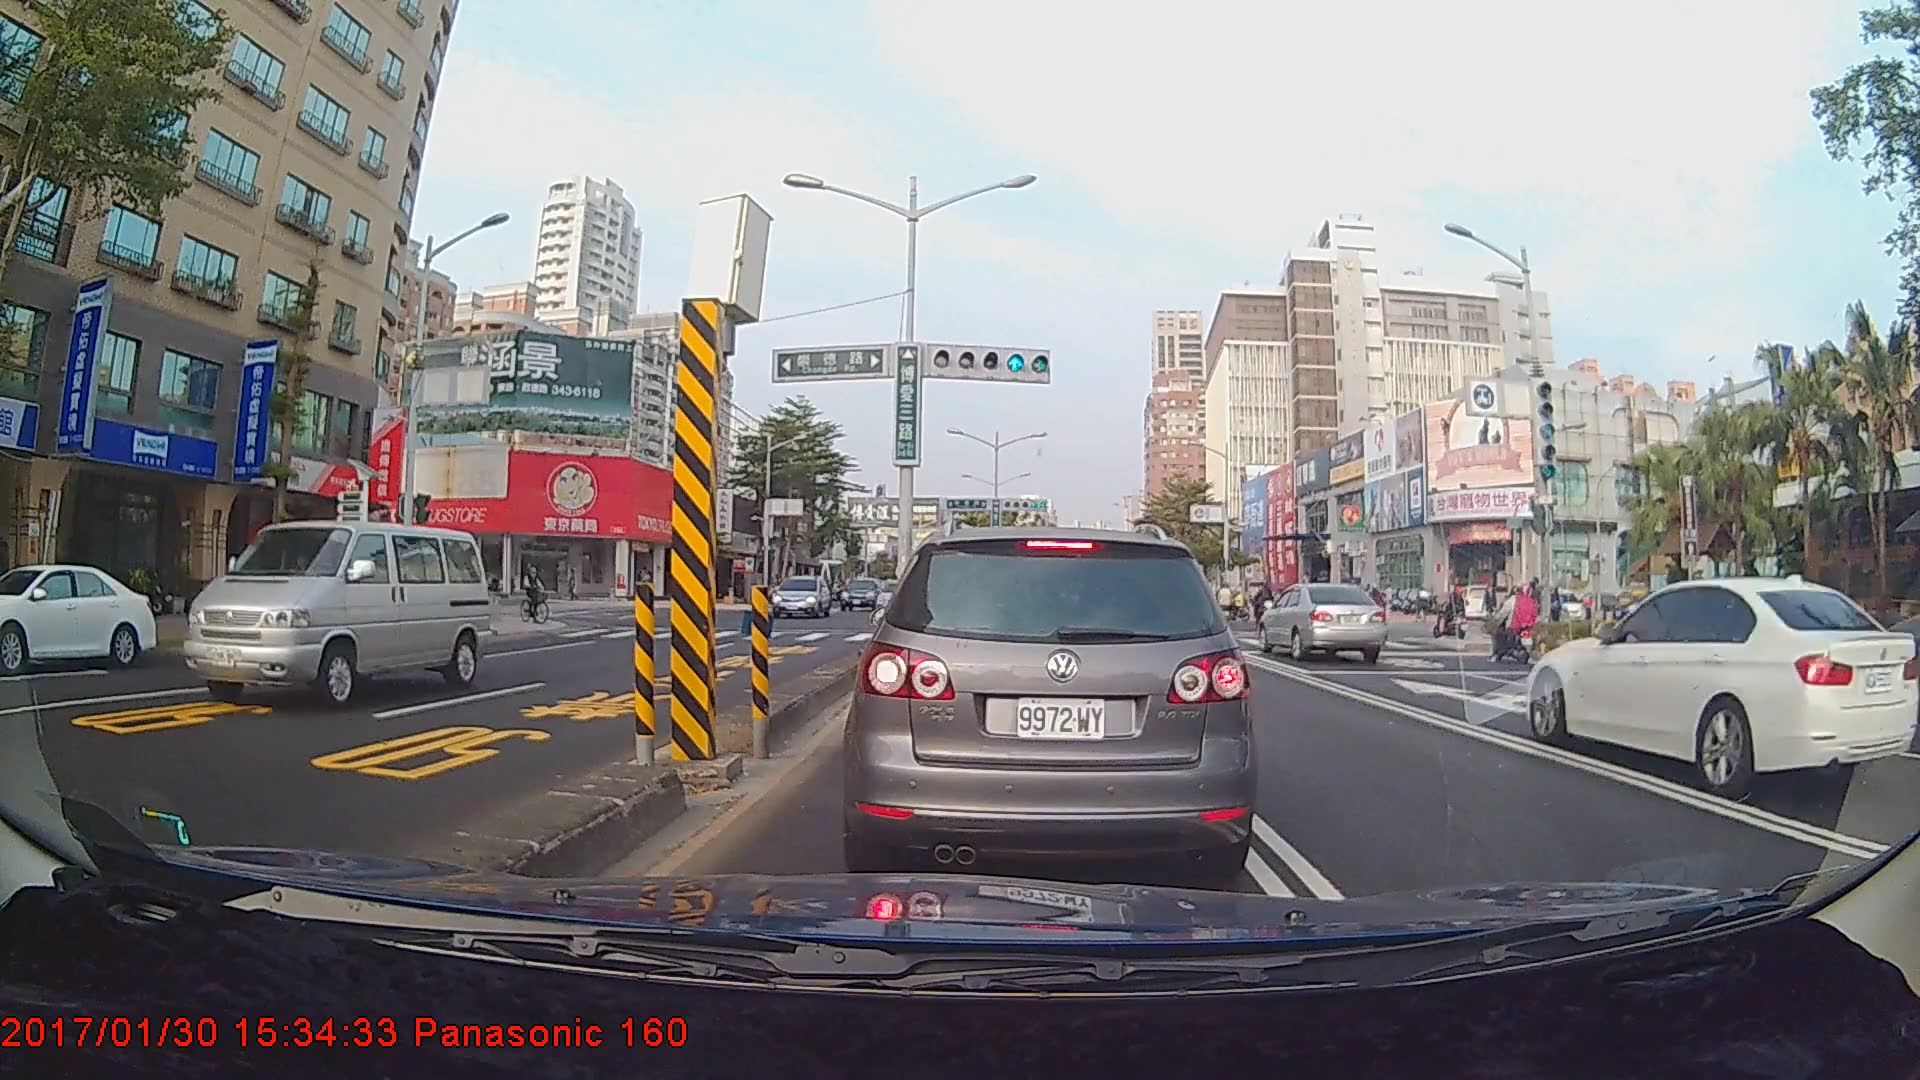rider: (1485, 582, 1548, 668), (518, 559, 561, 629), (1436, 582, 1473, 646)
vehicle: (854, 520, 1249, 884), (1524, 576, 1919, 801), (179, 518, 493, 711), (0, 561, 157, 671), (1255, 581, 1389, 660), (769, 574, 831, 618)
